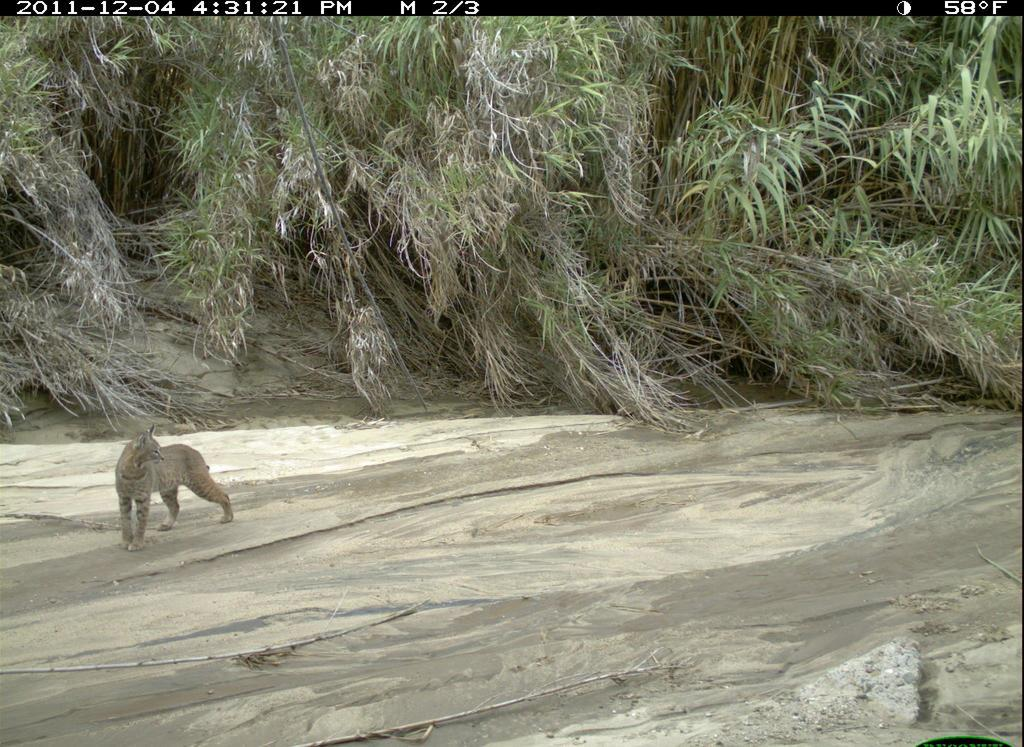bobcat: (111, 423, 240, 557)
